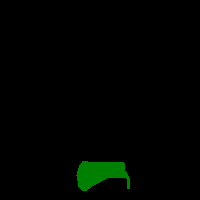mutande: (76, 161, 130, 191)
